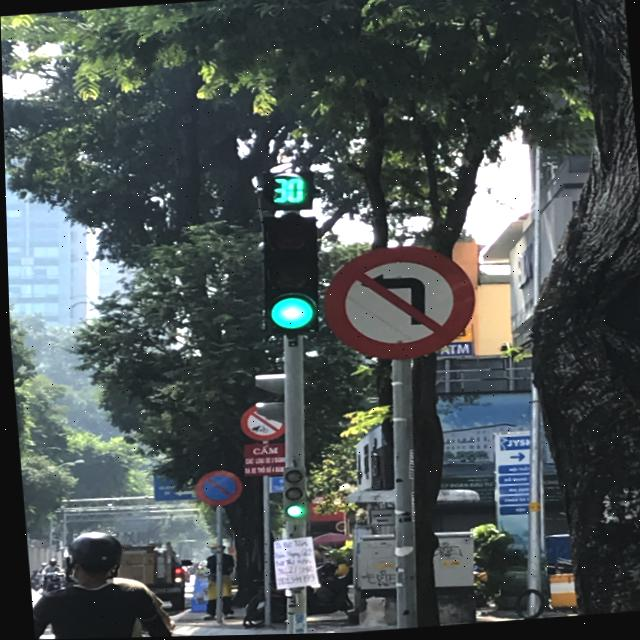Green: (258, 206, 328, 339), (272, 456, 319, 524)
